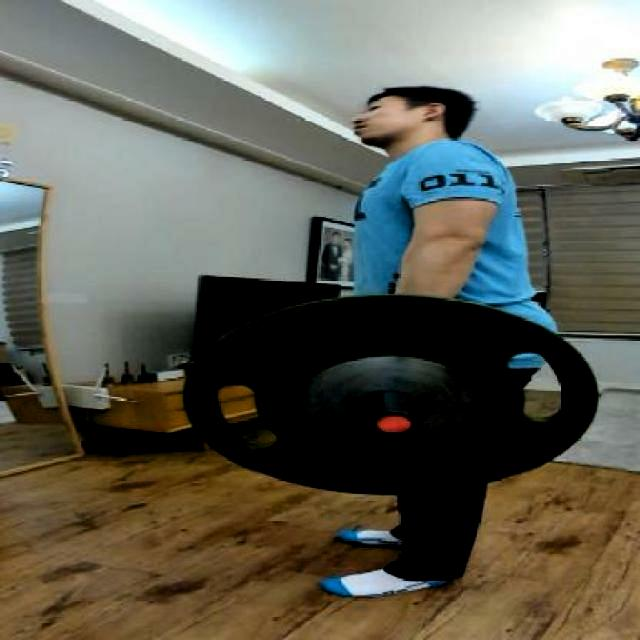barbell: (172, 287, 609, 500)
